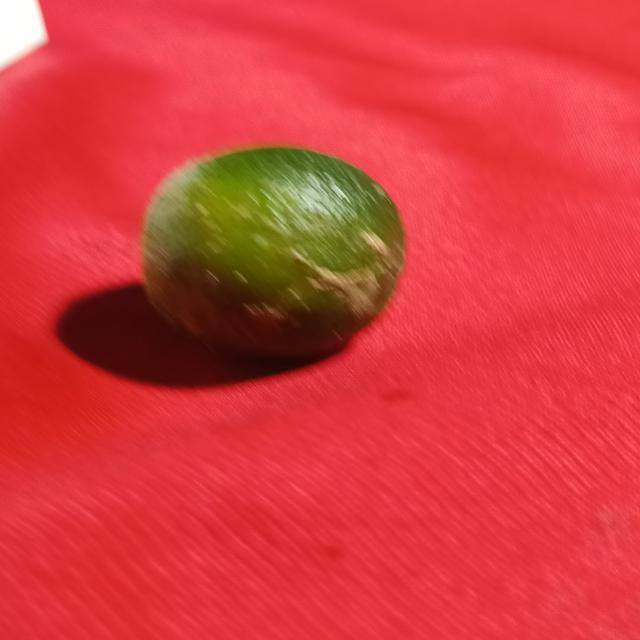scab: (134, 138, 408, 356)
